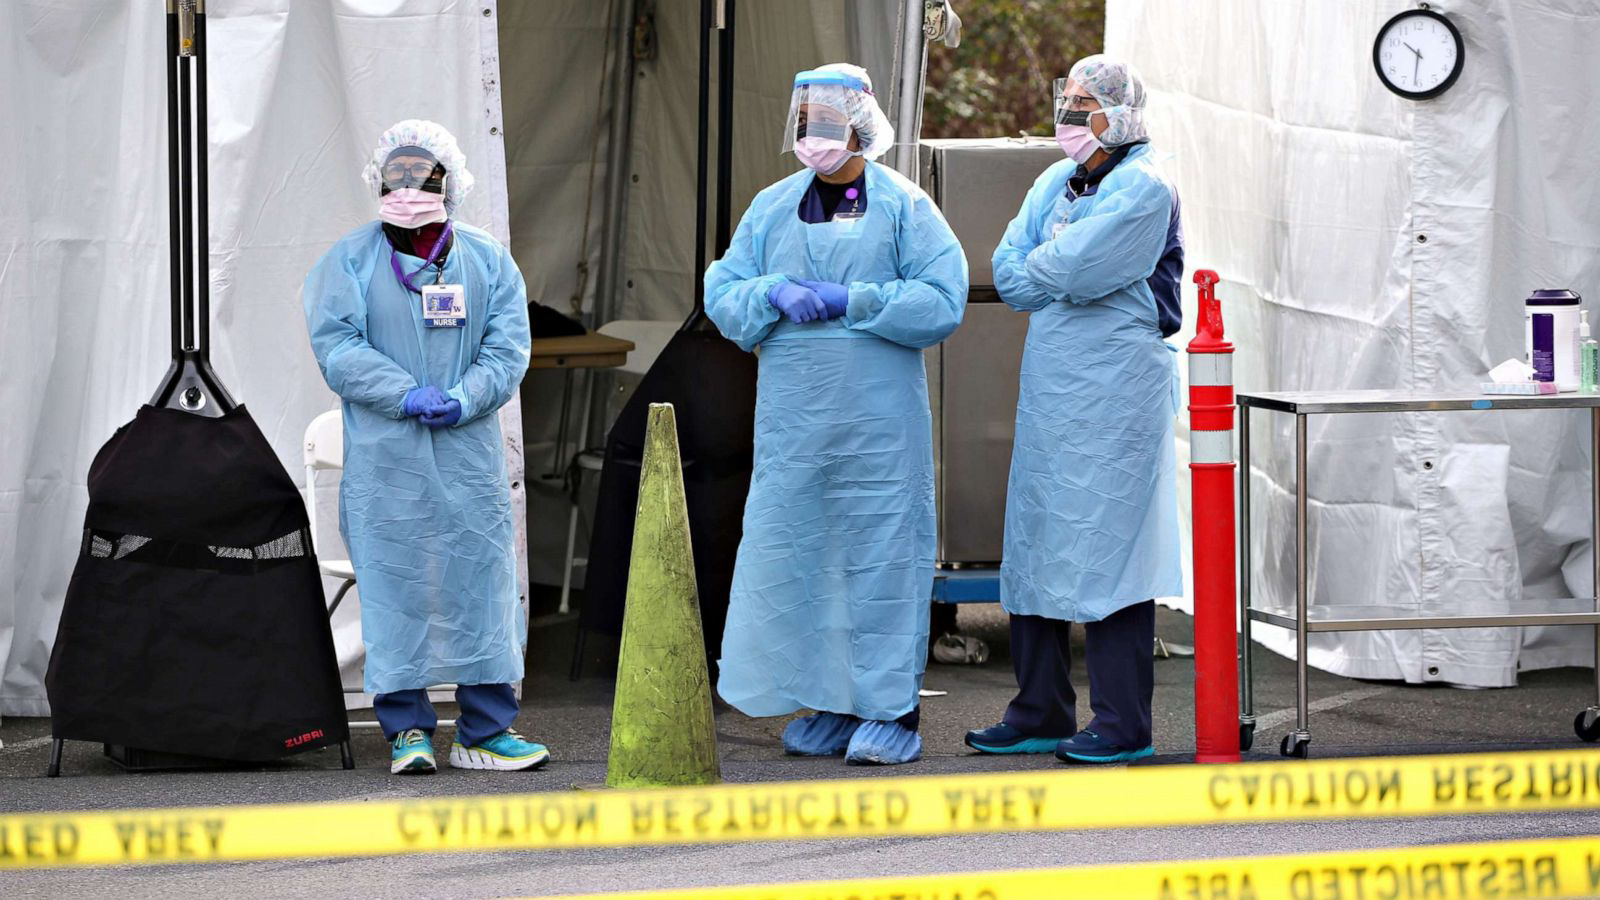Coverall: (716, 66, 967, 710), (305, 120, 536, 677), (995, 51, 1184, 597)
Gloves: (767, 273, 819, 326), (812, 275, 849, 311), (409, 384, 446, 416)
Mask: (375, 184, 454, 232), (790, 124, 858, 177), (1051, 104, 1104, 163)
